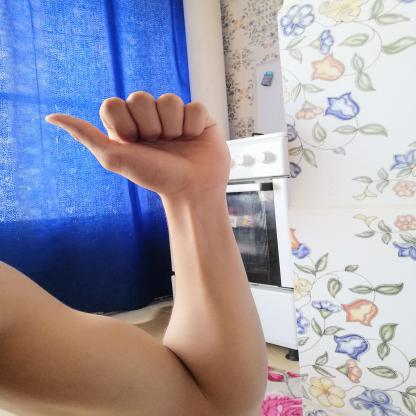DAD: (34, 84, 243, 202)
